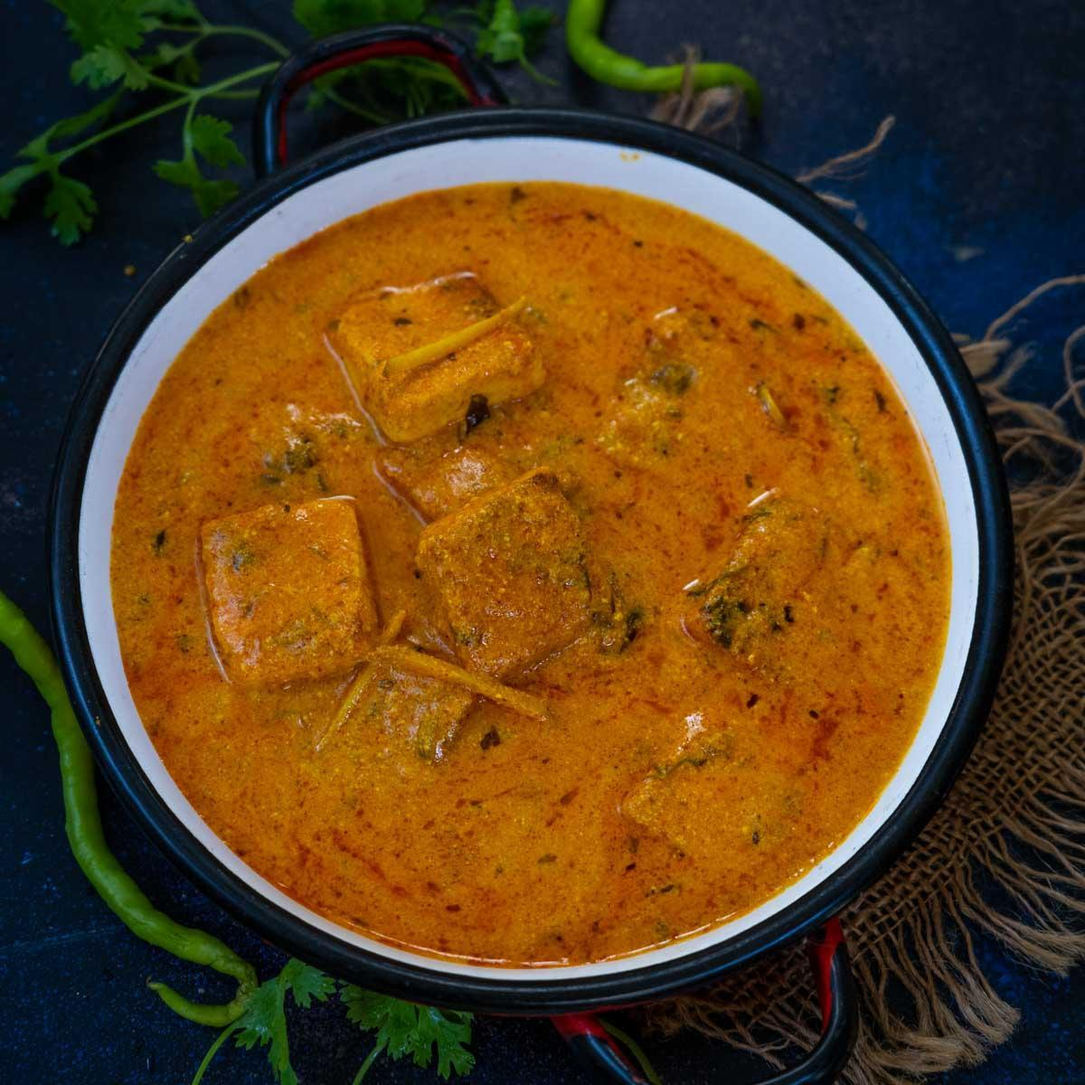paneer: (224, 336, 770, 804)
